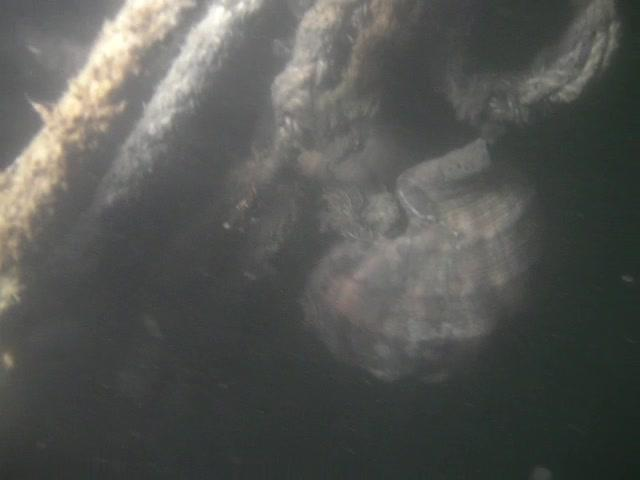bundle of ropes: (0, 0, 622, 315)
